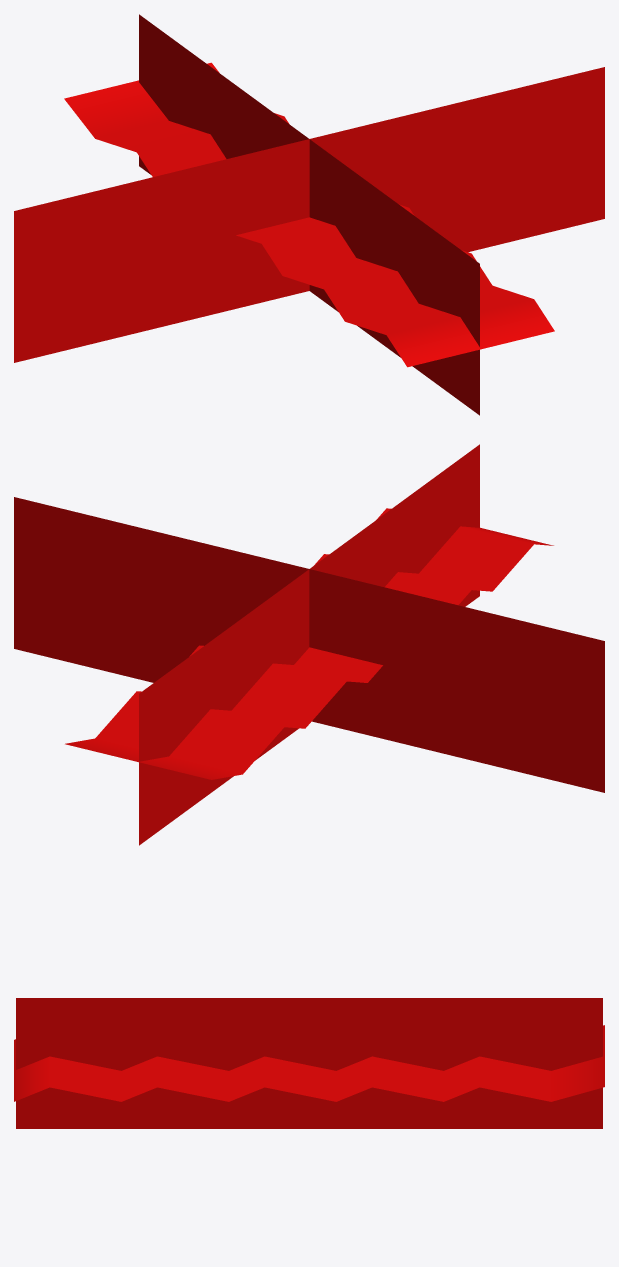
File: roof and wall.fbx
The picture shows the model from 3 angles, top to bottom: view 1: azimuth 30°, elevation 25°; view 2: azimuth 150°, elevation 25°; view 3: azimuth 270°, elevation 25°; orthographic projection. The views are drawn at different scales.
Visible parts, largest first — view 1: wall, wall1, roof; view 2: wall, wall1, roof; view 3: wall1, roof.
Part boxes in pixels (bbox=[...]): wall: bbox=[14, 67, 604, 362]; wall1: bbox=[139, 14, 479, 415]; roof: bbox=[64, 62, 554, 367]; wall: bbox=[14, 497, 604, 792]; wall1: bbox=[139, 444, 479, 845]; roof: bbox=[65, 508, 553, 779]; wall1: bbox=[16, 998, 602, 1128]; roof: bbox=[14, 1025, 604, 1101].
Size of the model in its own units: 1671 by 410 by 1681.
